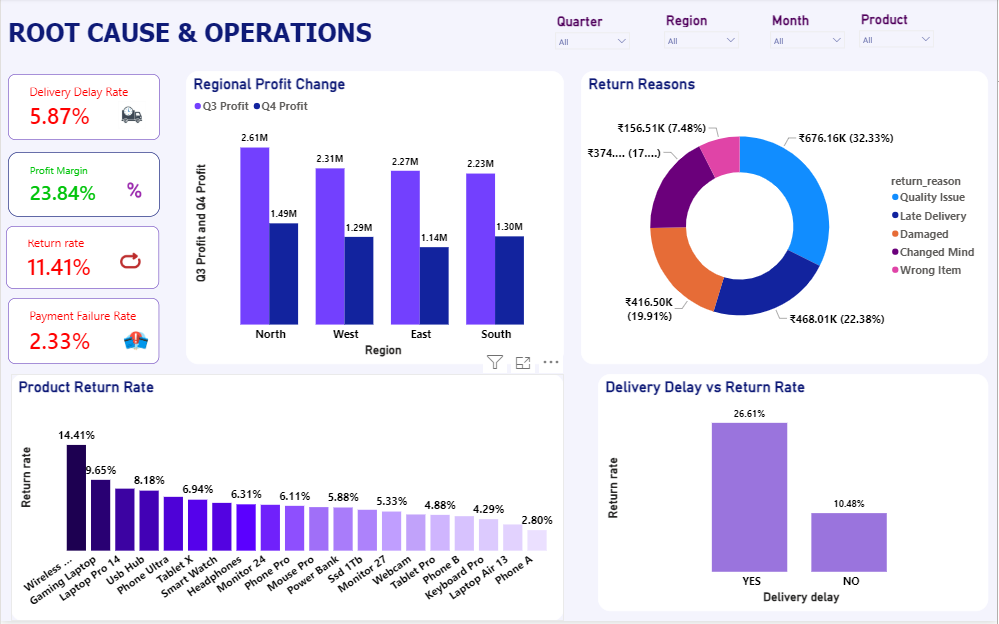

What the dashboard file says about the page in this screenshot:
{"tool":"powerbi","page":{"name":"ROOT CAUSE & OPERATIONS    ","canvas":[1600,1000],"ordinal":2},"visuals":[{"type":"shape","box":[4.8,17.7,1588.8,104.4],"z":0,"group":"g5"},{"type":"group","id":"g1","title":"Group 1","box":[11.2,247.4,244.2,104.4],"z":0},{"type":"cardVisual","fields":{"Data":["ecommerce_cleaned.Profit Margin"]},"box":[11.2,247.4,244.1,103.9],"z":0,"group":"g6"},{"type":"cardVisual","fields":{"Data":["ecommerce_cleaned.Return rate"]},"box":[8,366.3,245.8,101.2],"z":0,"group":"g2"},{"type":"image","box":[177.4,293.1,74.6,33.4],"z":501,"group":"g6"},{"type":"slicer","fields":{"Values":["ecommerce_cleaned.quarter"]},"box":[873.5,33.4,139.8,73.9],"z":1000,"group":"g5"},{"type":"group","id":"g2","title":"Group 2","box":[8,366.3,245.8,101.2],"z":1000},{"type":"slicer","fields":{"Values":["ecommerce_cleaned.region"]},"box":[1048.6,31.8,139.8,73.9],"z":2000,"group":"g5"},{"type":"group","id":"g3","title":"Group 3","box":[11.2,122.1,244.2,106],"z":2000},{"type":"cardVisual","fields":{"Data":["ecommerce_cleaned.Delivery Delay Rate"]},"box":[11.2,122.1,244.1,105.5],"z":2000,"group":"g3"},{"type":"slicer","fields":{"Values":["ecommerce_cleaned.month"]},"box":[1218.9,31.8,139.8,73.9],"z":3000,"group":"g5"},{"type":"group","id":"g4","title":"Group 4","box":[11.2,481.9,250.6,106],"z":3000},{"type":"cardVisual","fields":{"Data":["ecommerce_cleaned.Payment Failure Rate"]},"box":[11.2,481.9,242.6,106],"z":3000,"group":"g4"},{"type":"slicer","fields":{"Values":["ecommerce_cleaned.product_name"]},"box":[1361.8,30.2,139.8,73.9],"z":4000,"group":"g5"},{"type":"clusteredColumnChart","title":"Regional Profit Change","fields":{"Category":["ecommerce_cleaned.region"],"Y":["ecommerce_cleaned.Q3 Profit","ecommerce_cleaned.Q4 Profit"]},"box":[297.2,117.3,607.2,470.7],"z":4000},{"type":"columnChart","title":"Product Return Rate","fields":{"Category":["ecommerce_cleaned.product_name"],"Y":["ecommerce_cleaned.Return rate"]},"box":[11.2,604,931.7,396.8],"z":5000},{"type":"donutChart","title":" Return Reasons","fields":{"Category":["ecommerce_cleaned.return_reason"],"Y":["ecommerce_cleaned.Total Profit"]},"box":[931.7,117.3,653.8,470.7],"z":6000},{"type":"image","box":[167.7,164.8,86.3,44.3],"z":6500,"group":"g3"},{"type":"image","box":[185.5,404.4,42.8,33.7],"z":7000,"group":"g2"},{"type":"clusteredColumnChart","title":" Delivery Delay vs Return Rate ","fields":{"Y":["ecommerce_cleaned.Return rate"],"Category":["ecommerce_cleaned.Delivery Delay Status"]},"box":[959,604,626.5,380.7],"z":7000},{"type":"image","box":[171.8,526.3,90,46.6],"z":7500,"group":"g4"},{"type":"group","id":"g5","title":"Group 4","box":[4.8,17.7,1588.8,104.4],"z":8000},{"type":"actionButton","box":[1555,0,45,40.2],"z":8001},{"type":"group","id":"g6","title":"Group 5","box":[11.2,247.4,244.1,103.9],"z":8005,"group":"g1"}]}

Visuals, with their boxes in screenshot pixels (x1, y1, x2, y2), scaled from the page's 1600x1000 canvas onto the 999x624 screenshot:
shape: bbox(3, 11, 995, 76)
"Group 1" group: bbox(7, 154, 159, 220)
cardVisual - ecommerce_cleaned.Profit Margin: bbox(7, 154, 159, 219)
cardVisual - ecommerce_cleaned.Return rate: bbox(5, 229, 158, 292)
image: bbox(111, 183, 157, 204)
slicer - ecommerce_cleaned.quarter: bbox(545, 21, 633, 67)
"Group 2" group: bbox(5, 229, 158, 292)
slicer - ecommerce_cleaned.region: bbox(655, 20, 742, 66)
"Group 3" group: bbox(7, 76, 159, 142)
cardVisual - ecommerce_cleaned.Delivery Delay Rate: bbox(7, 76, 159, 142)
slicer - ecommerce_cleaned.month: bbox(761, 20, 848, 66)
"Group 4" group: bbox(7, 301, 163, 367)
cardVisual - ecommerce_cleaned.Payment Failure Rate: bbox(7, 301, 158, 367)
slicer - ecommerce_cleaned.product_name: bbox(850, 19, 938, 65)
"Regional Profit Change" clusteredColumnChart: bbox(186, 73, 565, 367)
"Product Return Rate" columnChart: bbox(7, 377, 589, 623)
" Return Reasons" donutChart: bbox(582, 73, 990, 367)
image: bbox(105, 103, 159, 130)
image: bbox(116, 252, 143, 273)
" Delivery Delay vs Return Rate " clusteredColumnChart: bbox(599, 377, 990, 614)
image: bbox(107, 328, 163, 357)
"Group 4" group: bbox(3, 11, 995, 76)
actionButton: bbox(971, 0, 998, 25)
"Group 5" group: bbox(7, 154, 159, 219)
